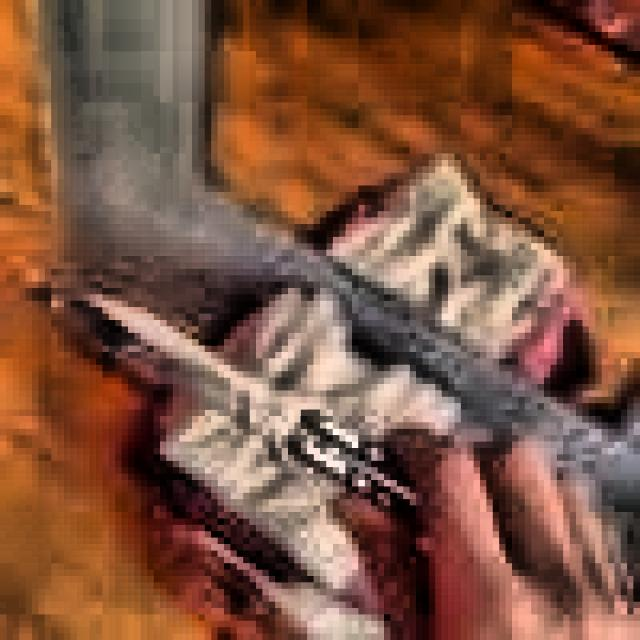knife: (39, 284, 426, 536)
